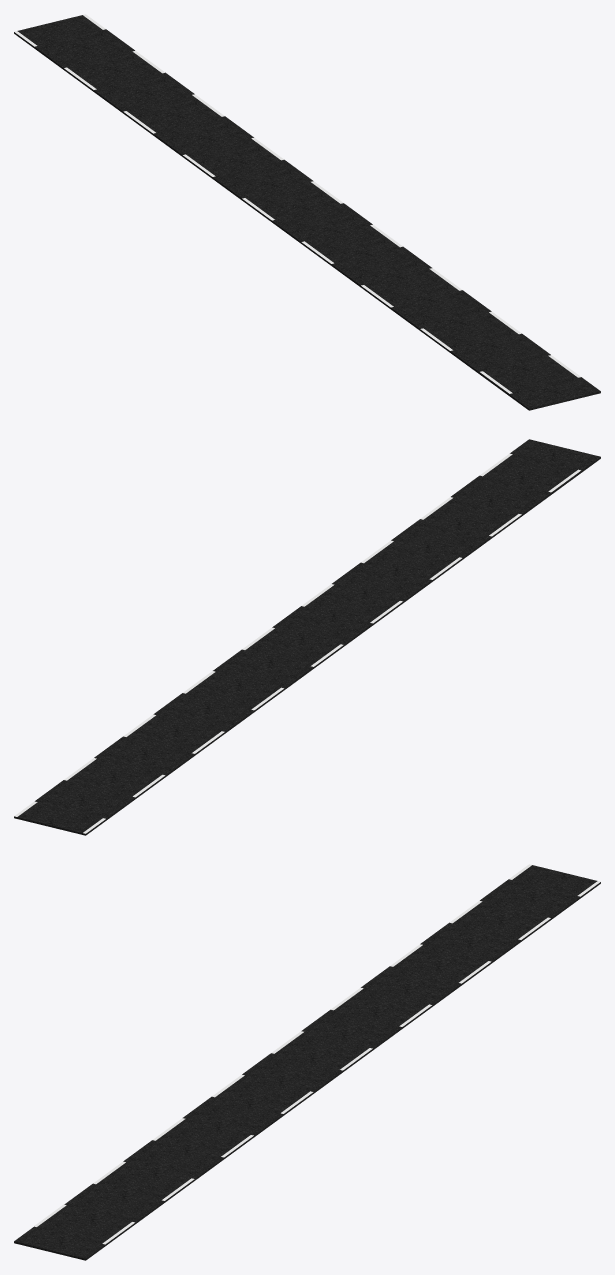
Rendered from center_50m.dae.
3 views of the same model, one above another, from view 1: azimuth 30°, elevation 25°; view 2: azimuth 150°, elevation 25°; view 3: azimuth 330°, elevation 25° (orthographic).
Parts seen in each view (by area): view 1: group_0_019, group_0_008; view 2: group_0_019, group_0_008; view 3: group_0_019, group_0_008.
Part boxes in pixels (x1,y1,x2,y2): group_0_019: (17, 15, 600, 408); group_0_008: (14, 32, 600, 410); group_0_019: (17, 439, 600, 832); group_0_008: (14, 457, 600, 835); group_0_019: (14, 865, 597, 1258); group_0_008: (14, 882, 600, 1260).
Size of the model in its own units: 4 by 49.7 by 0.1329.
2 materials, 1 textured.
